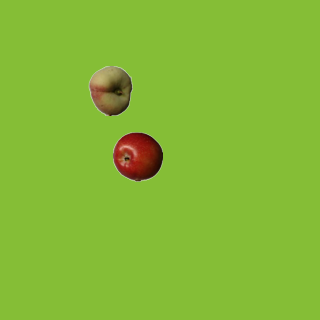Apple Braeburn: (112, 131, 162, 181)
Peach Flat: (85, 65, 135, 115)
